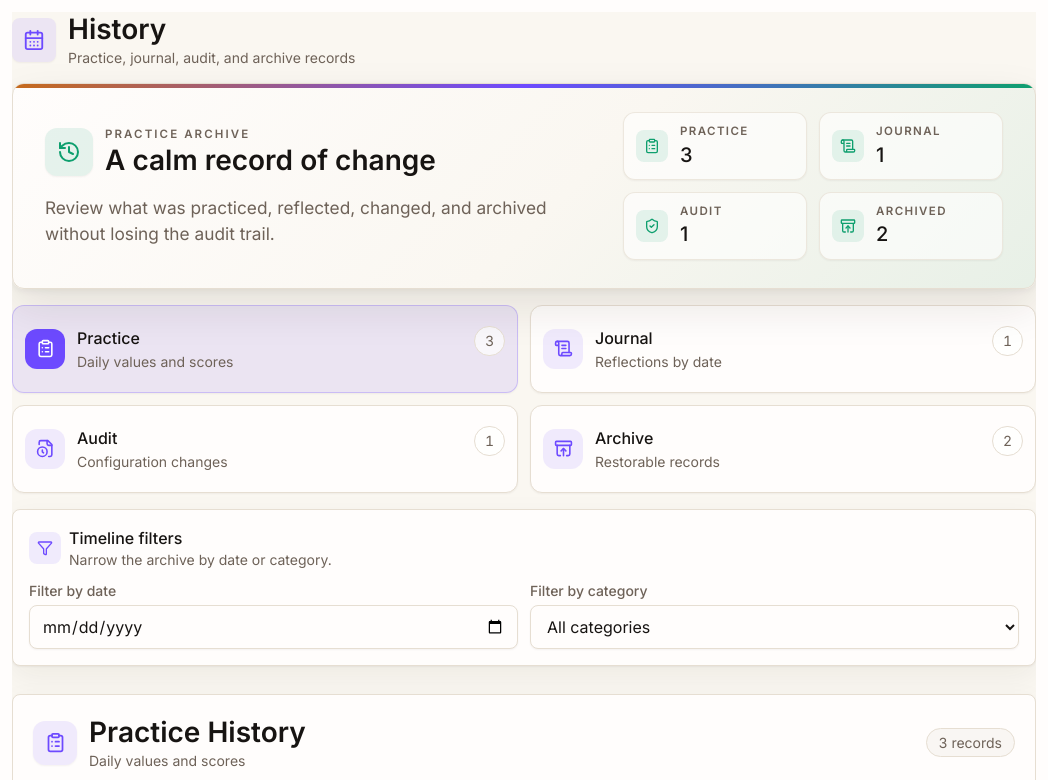
Test case: HistoryScreen › filters practice history by date and category
In the date field labelled "Filter by date": [274, 627] box [29,605,518,649], type "2026-05-13"
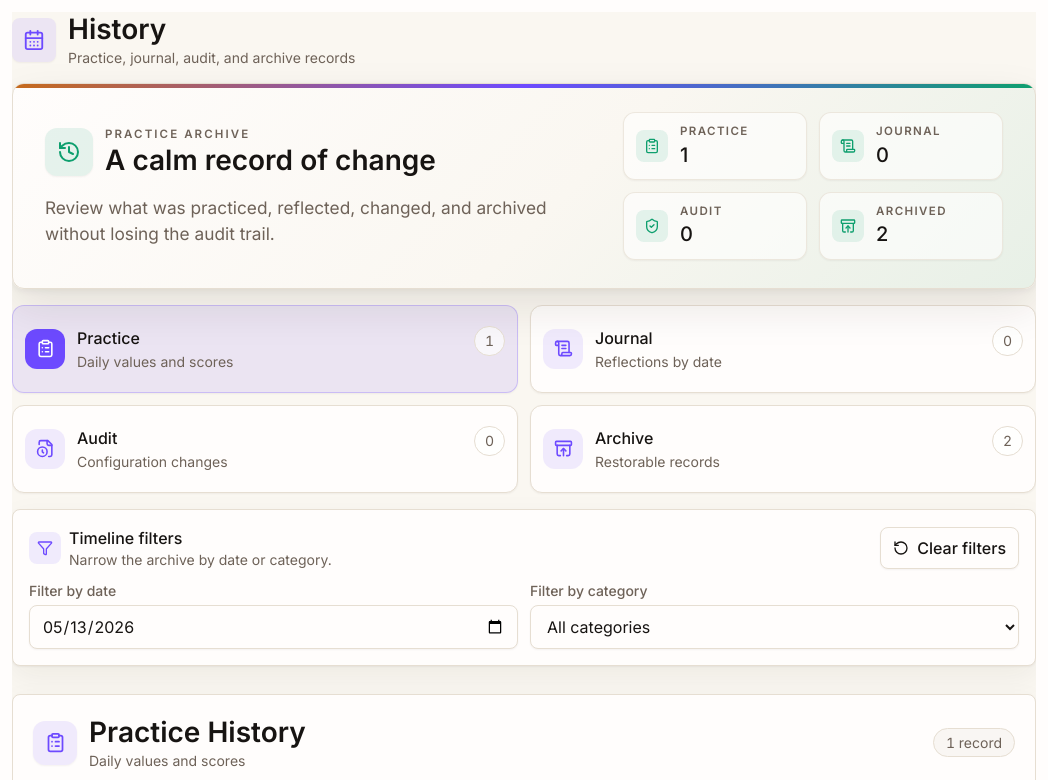
Select "Family" in the dropdown labelled "Filter by category": [774, 627] box [530,605,1019,649]
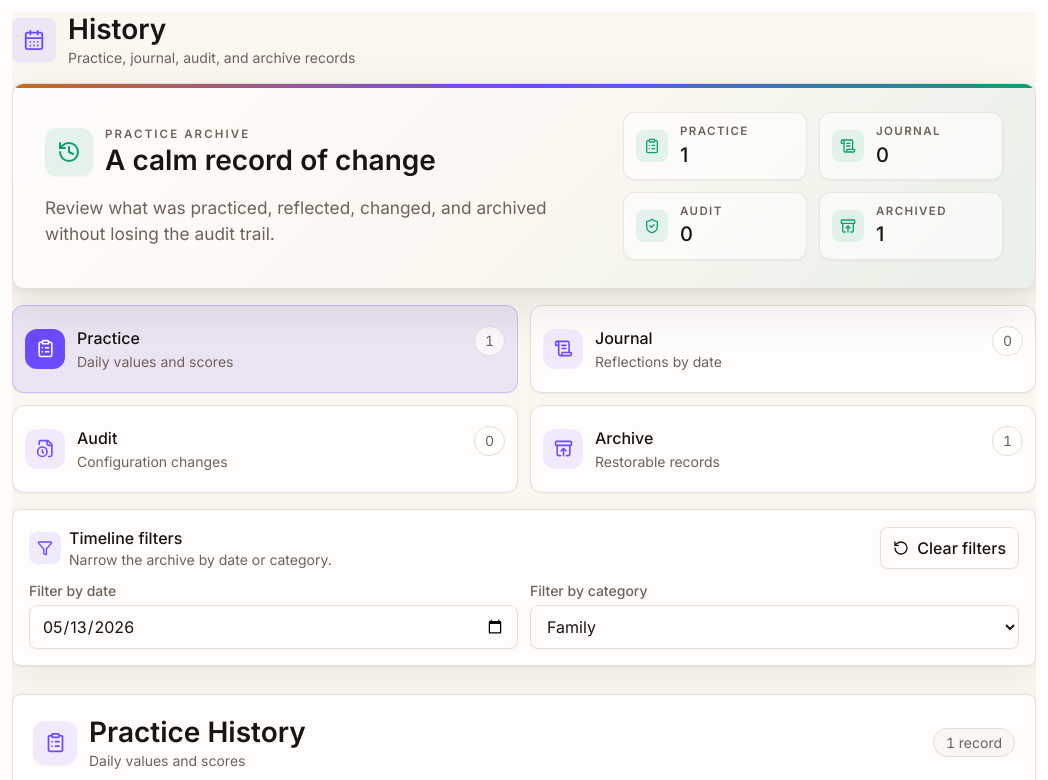
Click the button "Clear filters": [950, 548] box [880,526,1019,568]
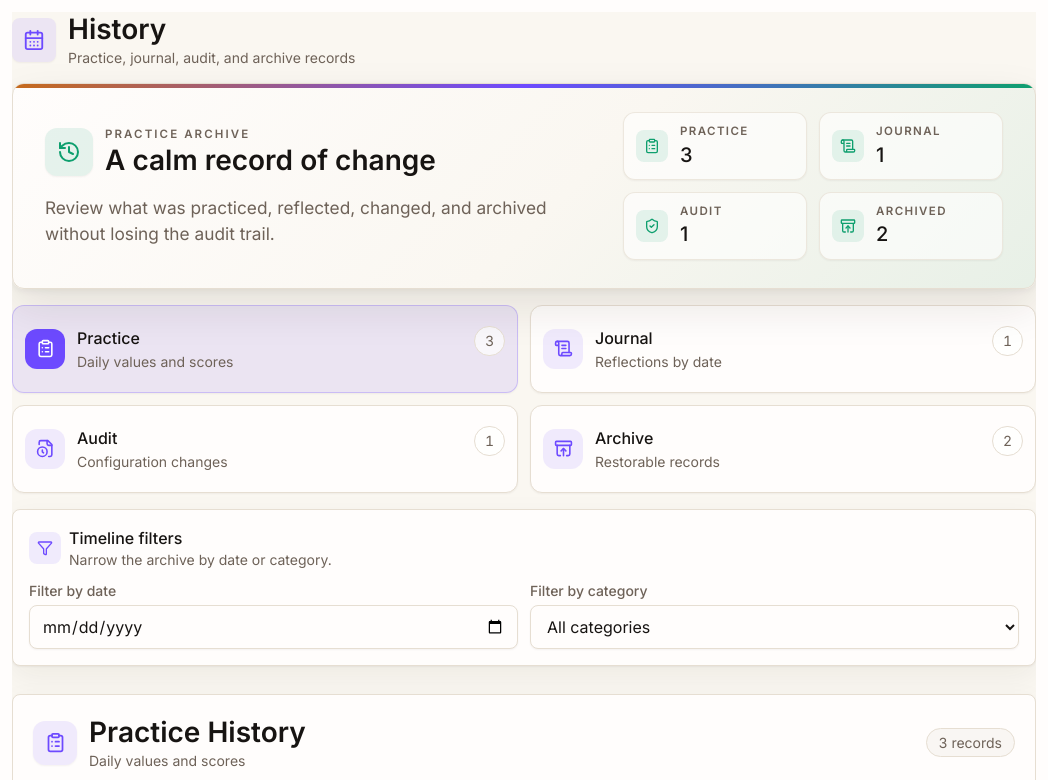
Now the date field labelled "Filter by date" is empty, box [29,605,518,649]
